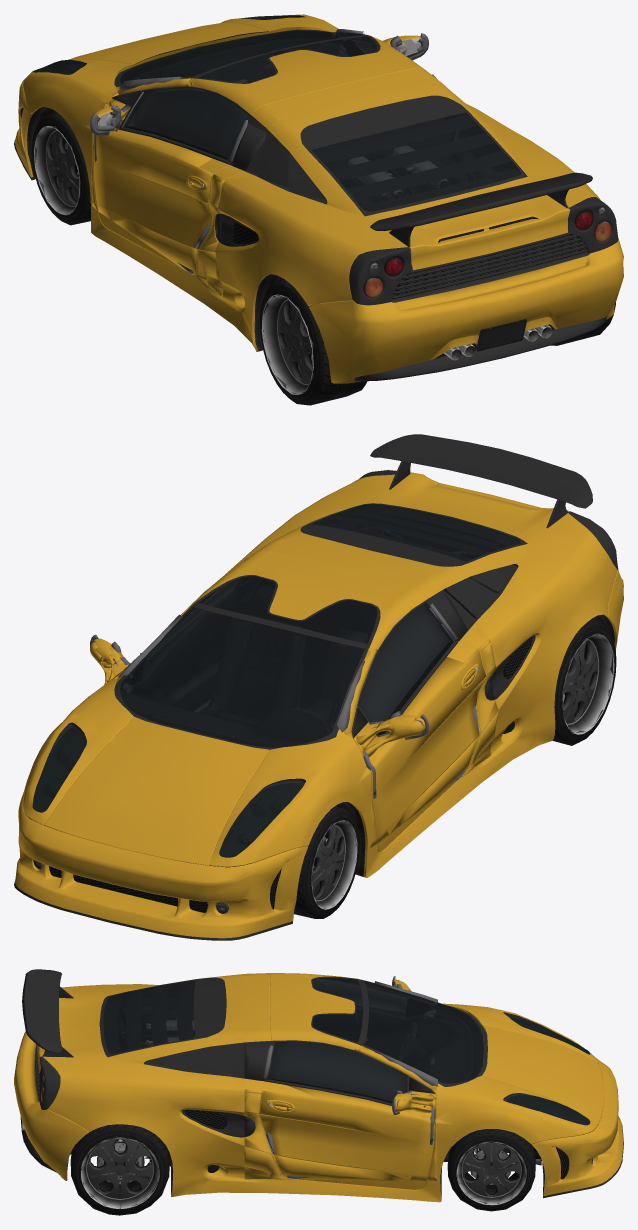
File: vela_v12.glb
3 views of the same model, one above another, from view 1: azimuth 30°, elevation 25°; view 2: azimuth 150°, elevation 25°; view 3: azimuth 270°, elevation 25° (orthographic). The views are drawn at different scales.
Visible parts, largest first — view 1: body, door_FL, wheel_RL, wheel_FL, door_FR; view 2: body, door_FL, door_FR, wheel_RL, wheel_FL; view 3: body, door_FR, wheel_RR, wheel_FR, door_FL, steering_wheel.
Boxes of the visible parts, <box> form: body: <box>14,14,623,383</box>; door_FL: <box>90,76,266,296</box>; wheel_RL: <box>259,280,367,405</box>; wheel_FL: <box>31,112,90,225</box>; door_FR: <box>332,29,477,109</box>; body: <box>14,434,623,940</box>; door_FL: <box>332,592,498,847</box>; door_FR: <box>90,558,262,711</box>; wheel_RL: <box>552,619,616,745</box>; wheel_FL: <box>294,806,359,918</box>; body: <box>14,969,623,1202</box>; door_FR: <box>244,1042,438,1181</box>; wheel_RR: <box>70,1124,169,1215</box>; wheel_FR: <box>447,1129,535,1211</box>; door_FL: <box>313,976,437,1067</box>; steering_wheel: <box>399,1022,416,1062</box>.
Bounding box in the file's own units: 2.22 × 1.32 × 4.51.
Materials: 7 (5 with a texture image).
